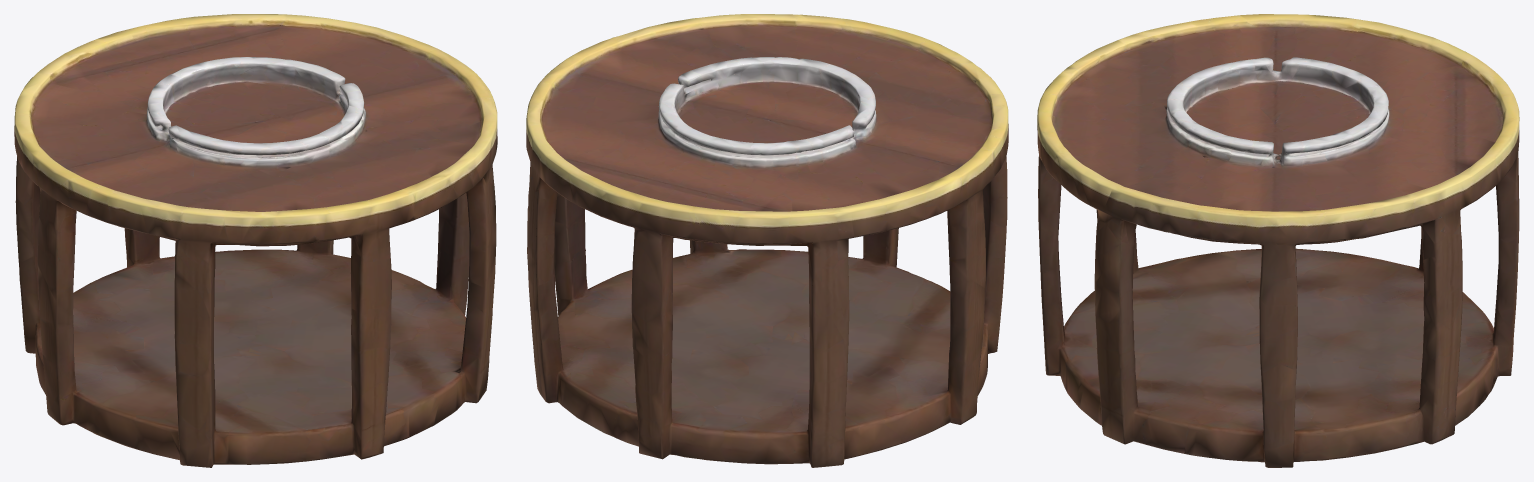
Rendered from cigar-side-table-walnut.glb.
The picture shows the model from 3 angles, left to right: view 1: azimuth 30°, elevation 25°; view 2: azimuth 150°, elevation 25°; view 3: azimuth 270°, elevation 25°; orthographic projection.
Size of the model in its own units: 2 by 1.23 by 2.
1 material, 1 textured.
